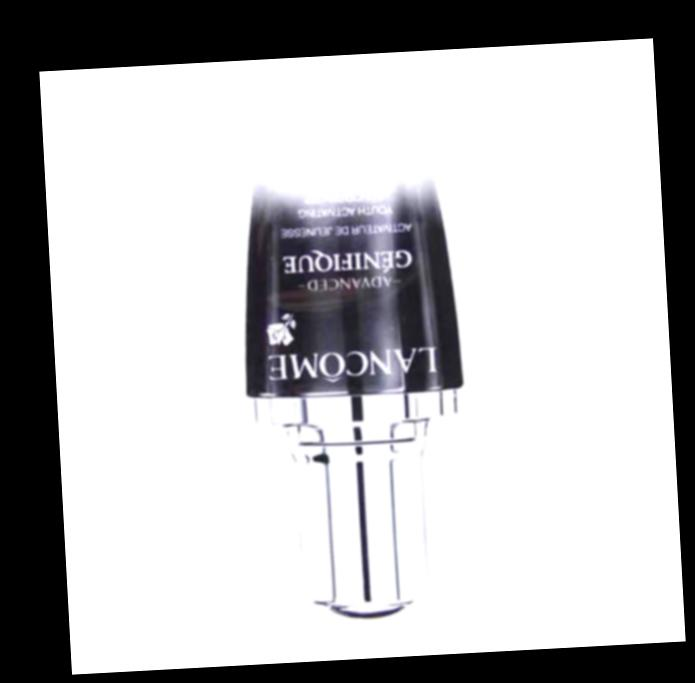cosmetic: (227, 84, 475, 627)
